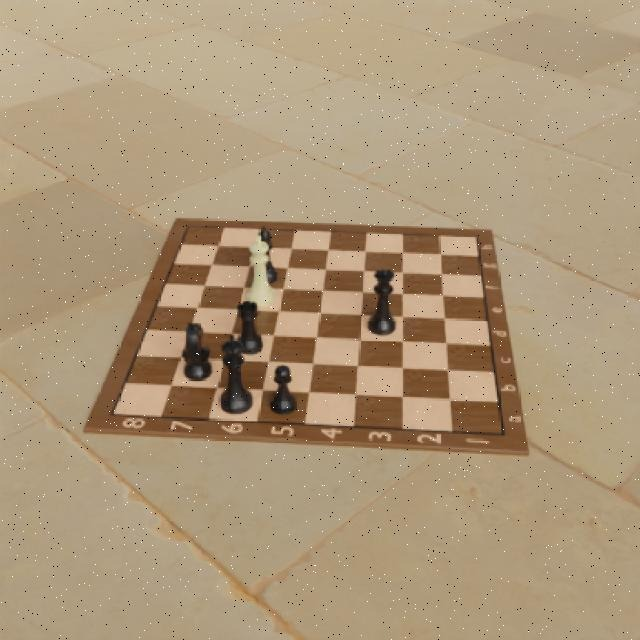black-bishop: (250, 226, 278, 285)
black-king: (216, 332, 255, 415)
black-knight: (181, 321, 212, 382)
black-pawn: (267, 364, 296, 416)
black-queen: (367, 268, 397, 338)
black-rook: (231, 299, 265, 354)
white-king: (243, 233, 276, 306)
